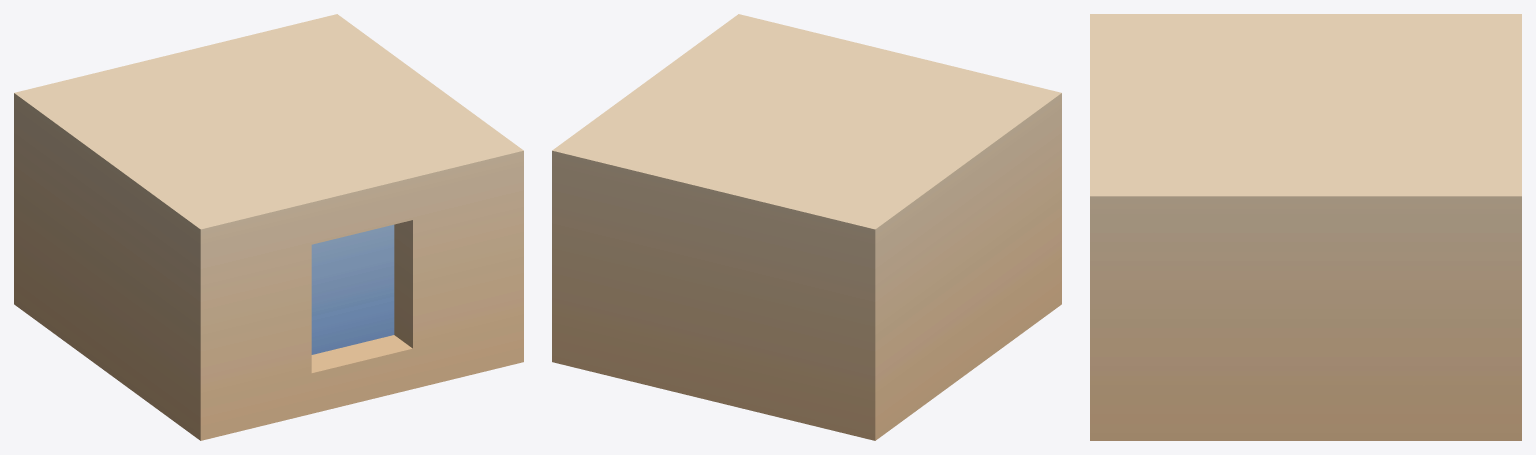
The model's file is kenney-modular-buildings-building-window.glb.
3 renders of one model, left to right at view 1: azimuth 30°, elevation 25°; view 2: azimuth 150°, elevation 25°; view 3: azimuth 270°, elevation 25°, orthographic. The views are drawn at different scales.
Parts seen in each view (by area): view 1: building-window; view 2: building-window; view 3: building-window.
Part boxes in pixels (x1,y1,x2,y2): building-window: [14, 14, 523, 440]; building-window: [552, 14, 1061, 440]; building-window: [1090, 14, 1521, 440].
Bounding box in the file's own units: 1 × 0.625 × 1.
1 material, 1 textured.
